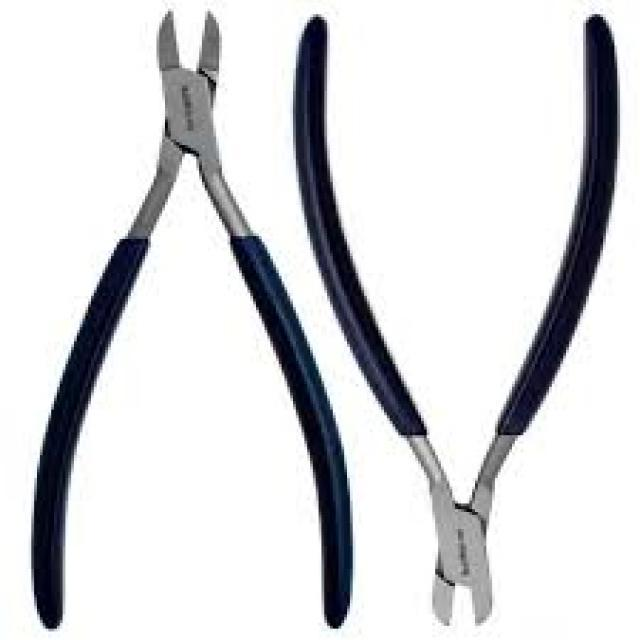pliers: (290, 2, 622, 630), (26, 4, 349, 630)
